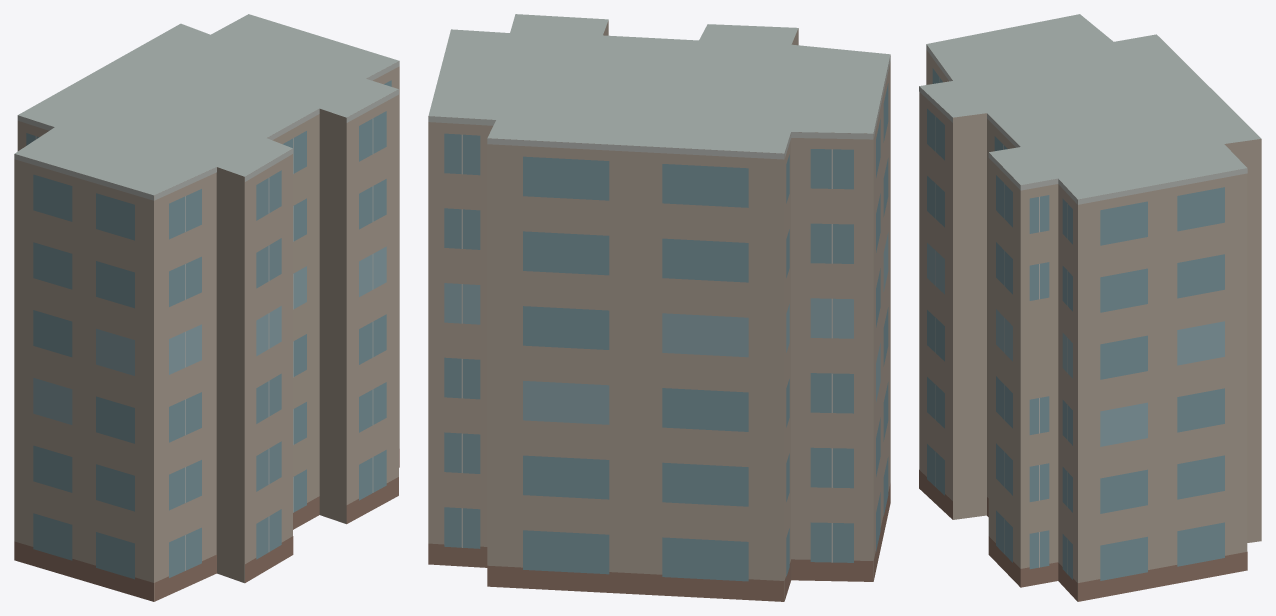
The model's file is survey-upis-32646683.glb.
3 renders of one model, left to right at view 1: azimuth 30°, elevation 25°; view 2: azimuth 150°, elevation 25°; view 3: azimuth 270°, elevation 25°, orthographic. The views are drawn at different scales.
Parts seen in each view (by area): view 1: survey-upis-32646683.tmp; view 2: survey-upis-32646683.tmp; view 3: survey-upis-32646683.tmp.
Boxes of the visible parts, x1,y1,x2,y2 form: survey-upis-32646683.tmp: (14, 14, 399, 601); survey-upis-32646683.tmp: (428, 14, 890, 601); survey-upis-32646683.tmp: (919, 14, 1261, 601).
Size of the model in its own units: 18.11 by 18.3 by 14.13.
